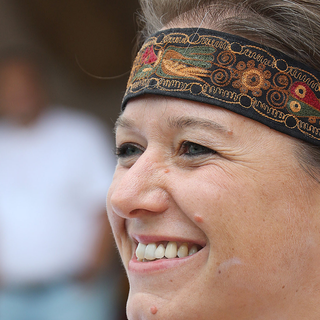eye: (172, 138, 223, 164), (110, 136, 151, 164)
